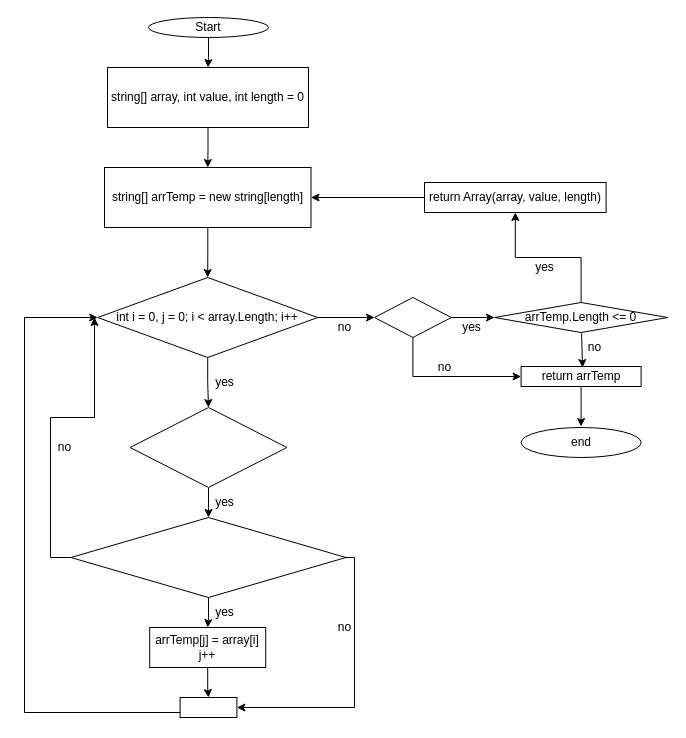
Image size: 686x738. Some labels were removed from this diagram. The shapes that lost their labels are listed below. From the top down, each one's centre as x and y in pixels, then its label:
At [412,317]: "length > 0".
At [208,447]: "array[i].Length <= value".
At [208,557]: "arrTemp.Length > 0 && j < arrTemp.Length".
At [208,707]: "length++".
